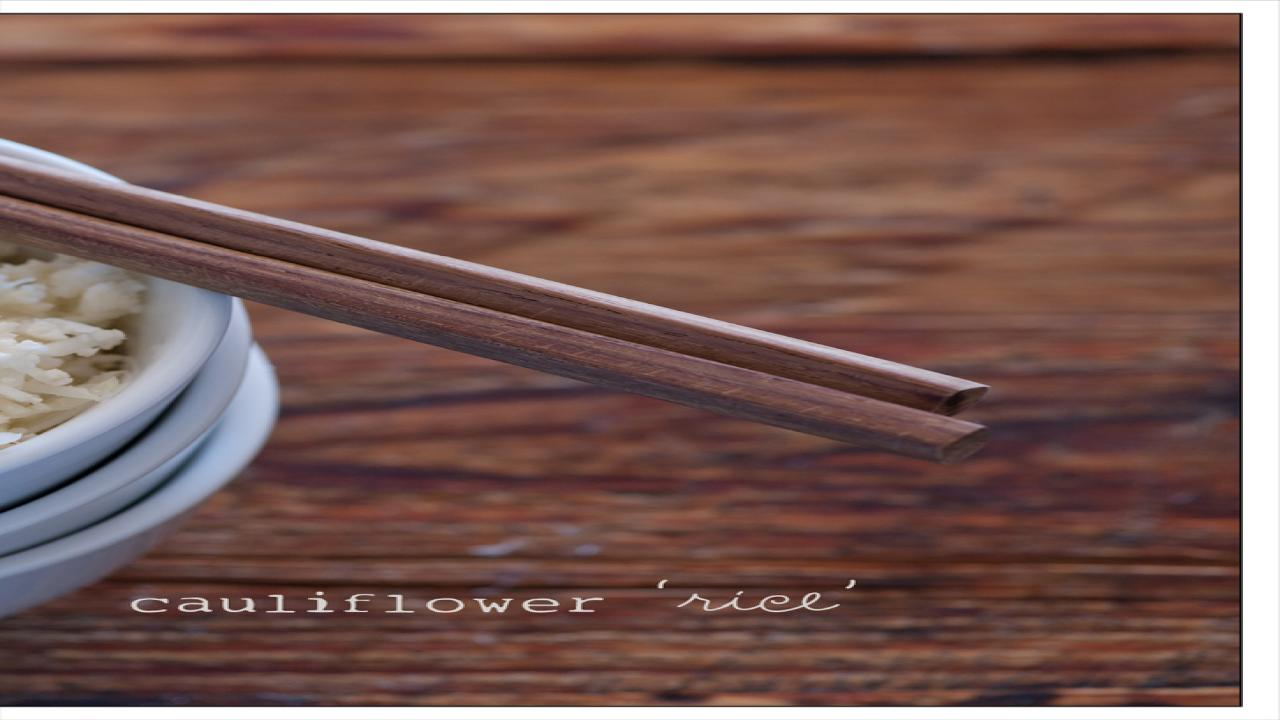chopstick: (2, 156, 993, 461)
